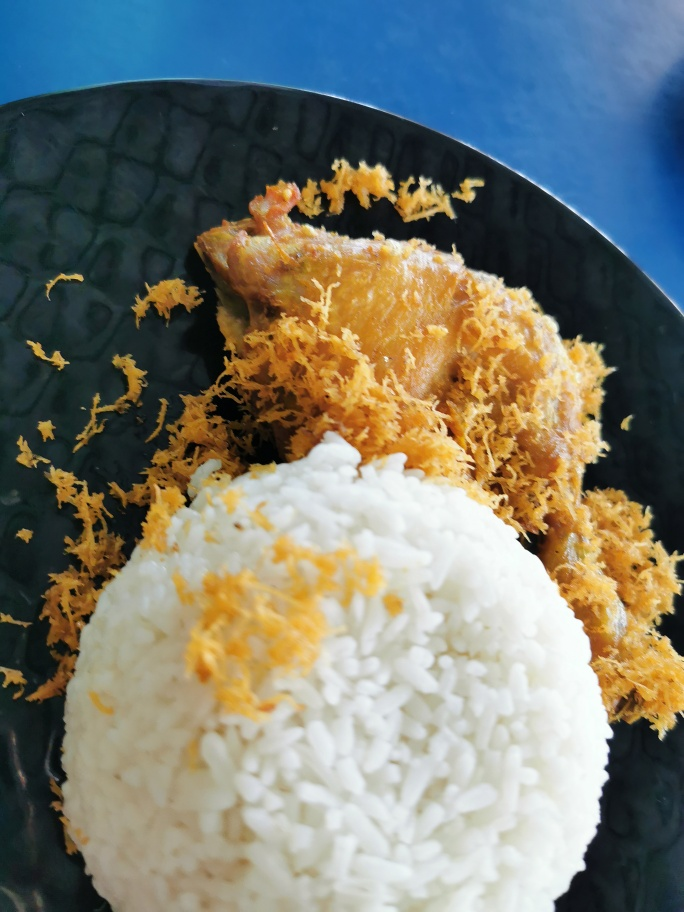ayam goreng: (207, 181, 675, 744)
nasi putih: (62, 452, 612, 912)
